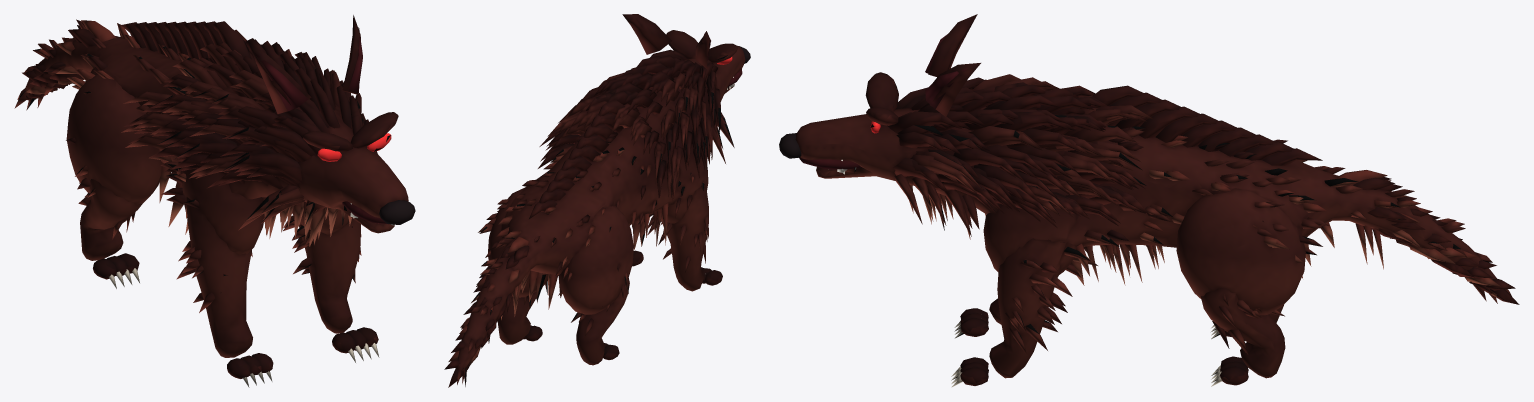
The model's file is Mon_GuardWolf.glb.
3 views of the same model, side by side, from view 1: azimuth 30°, elevation 25°; view 2: azimuth 150°, elevation 25°; view 3: azimuth 270°, elevation 25° (orthographic). The views are drawn at different scales.
Parts seen in each view (by area): view 1: Mon_GuardWolf.001; view 2: Mon_GuardWolf.001; view 3: Mon_GuardWolf.001.
Part boxes in pixels (left/top/right/bottom): Mon_GuardWolf.001: left=14, top=15, right=415, bottom=387; Mon_GuardWolf.001: left=444, top=14, right=750, bottom=387; Mon_GuardWolf.001: left=779, top=14, right=1519, bottom=387.
Size of the model in its own units: 1.92 by 3.1 by 6.5.
1 material, 1 textured.
